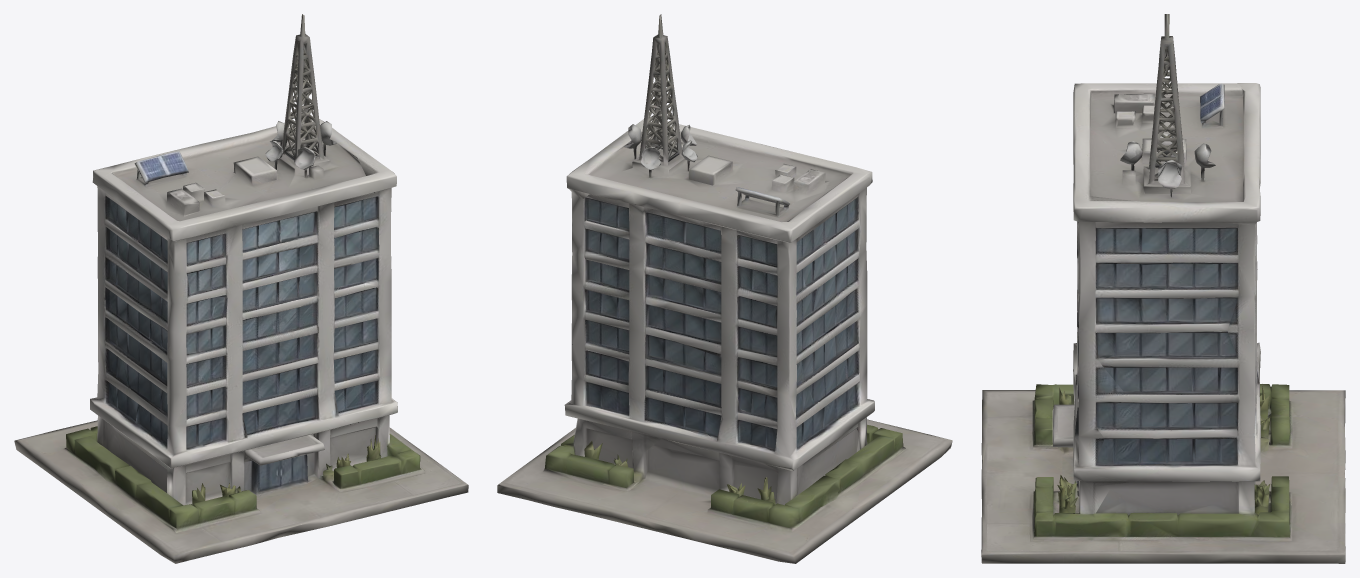
Rendered from lagos_tower_c.glb.
3 renders of one model, left to right at view 1: azimuth 30°, elevation 25°; view 2: azimuth 150°, elevation 25°; view 3: azimuth 270°, elevation 25°, orthographic. The views are drawn at different scales.
Visible parts, largest first — view 1: tripo_node_74a8973b-4d8c-45cd-8ae7-349c9d27cdd3; view 2: tripo_node_74a8973b-4d8c-45cd-8ae7-349c9d27cdd3; view 3: tripo_node_74a8973b-4d8c-45cd-8ae7-349c9d27cdd3.
Boxes of the visible parts, x1=… form: tripo_node_74a8973b-4d8c-45cd-8ae7-349c9d27cdd3: x1=14, y1=14, x2=468, y2=563; tripo_node_74a8973b-4d8c-45cd-8ae7-349c9d27cdd3: x1=497, y1=14, x2=952, y2=563; tripo_node_74a8973b-4d8c-45cd-8ae7-349c9d27cdd3: x1=981, y1=14, x2=1345, y2=563.
Bounding box in the file's own units: 0.7036 × 1 × 0.6561.
Materials: 1 (1 with a texture image).
